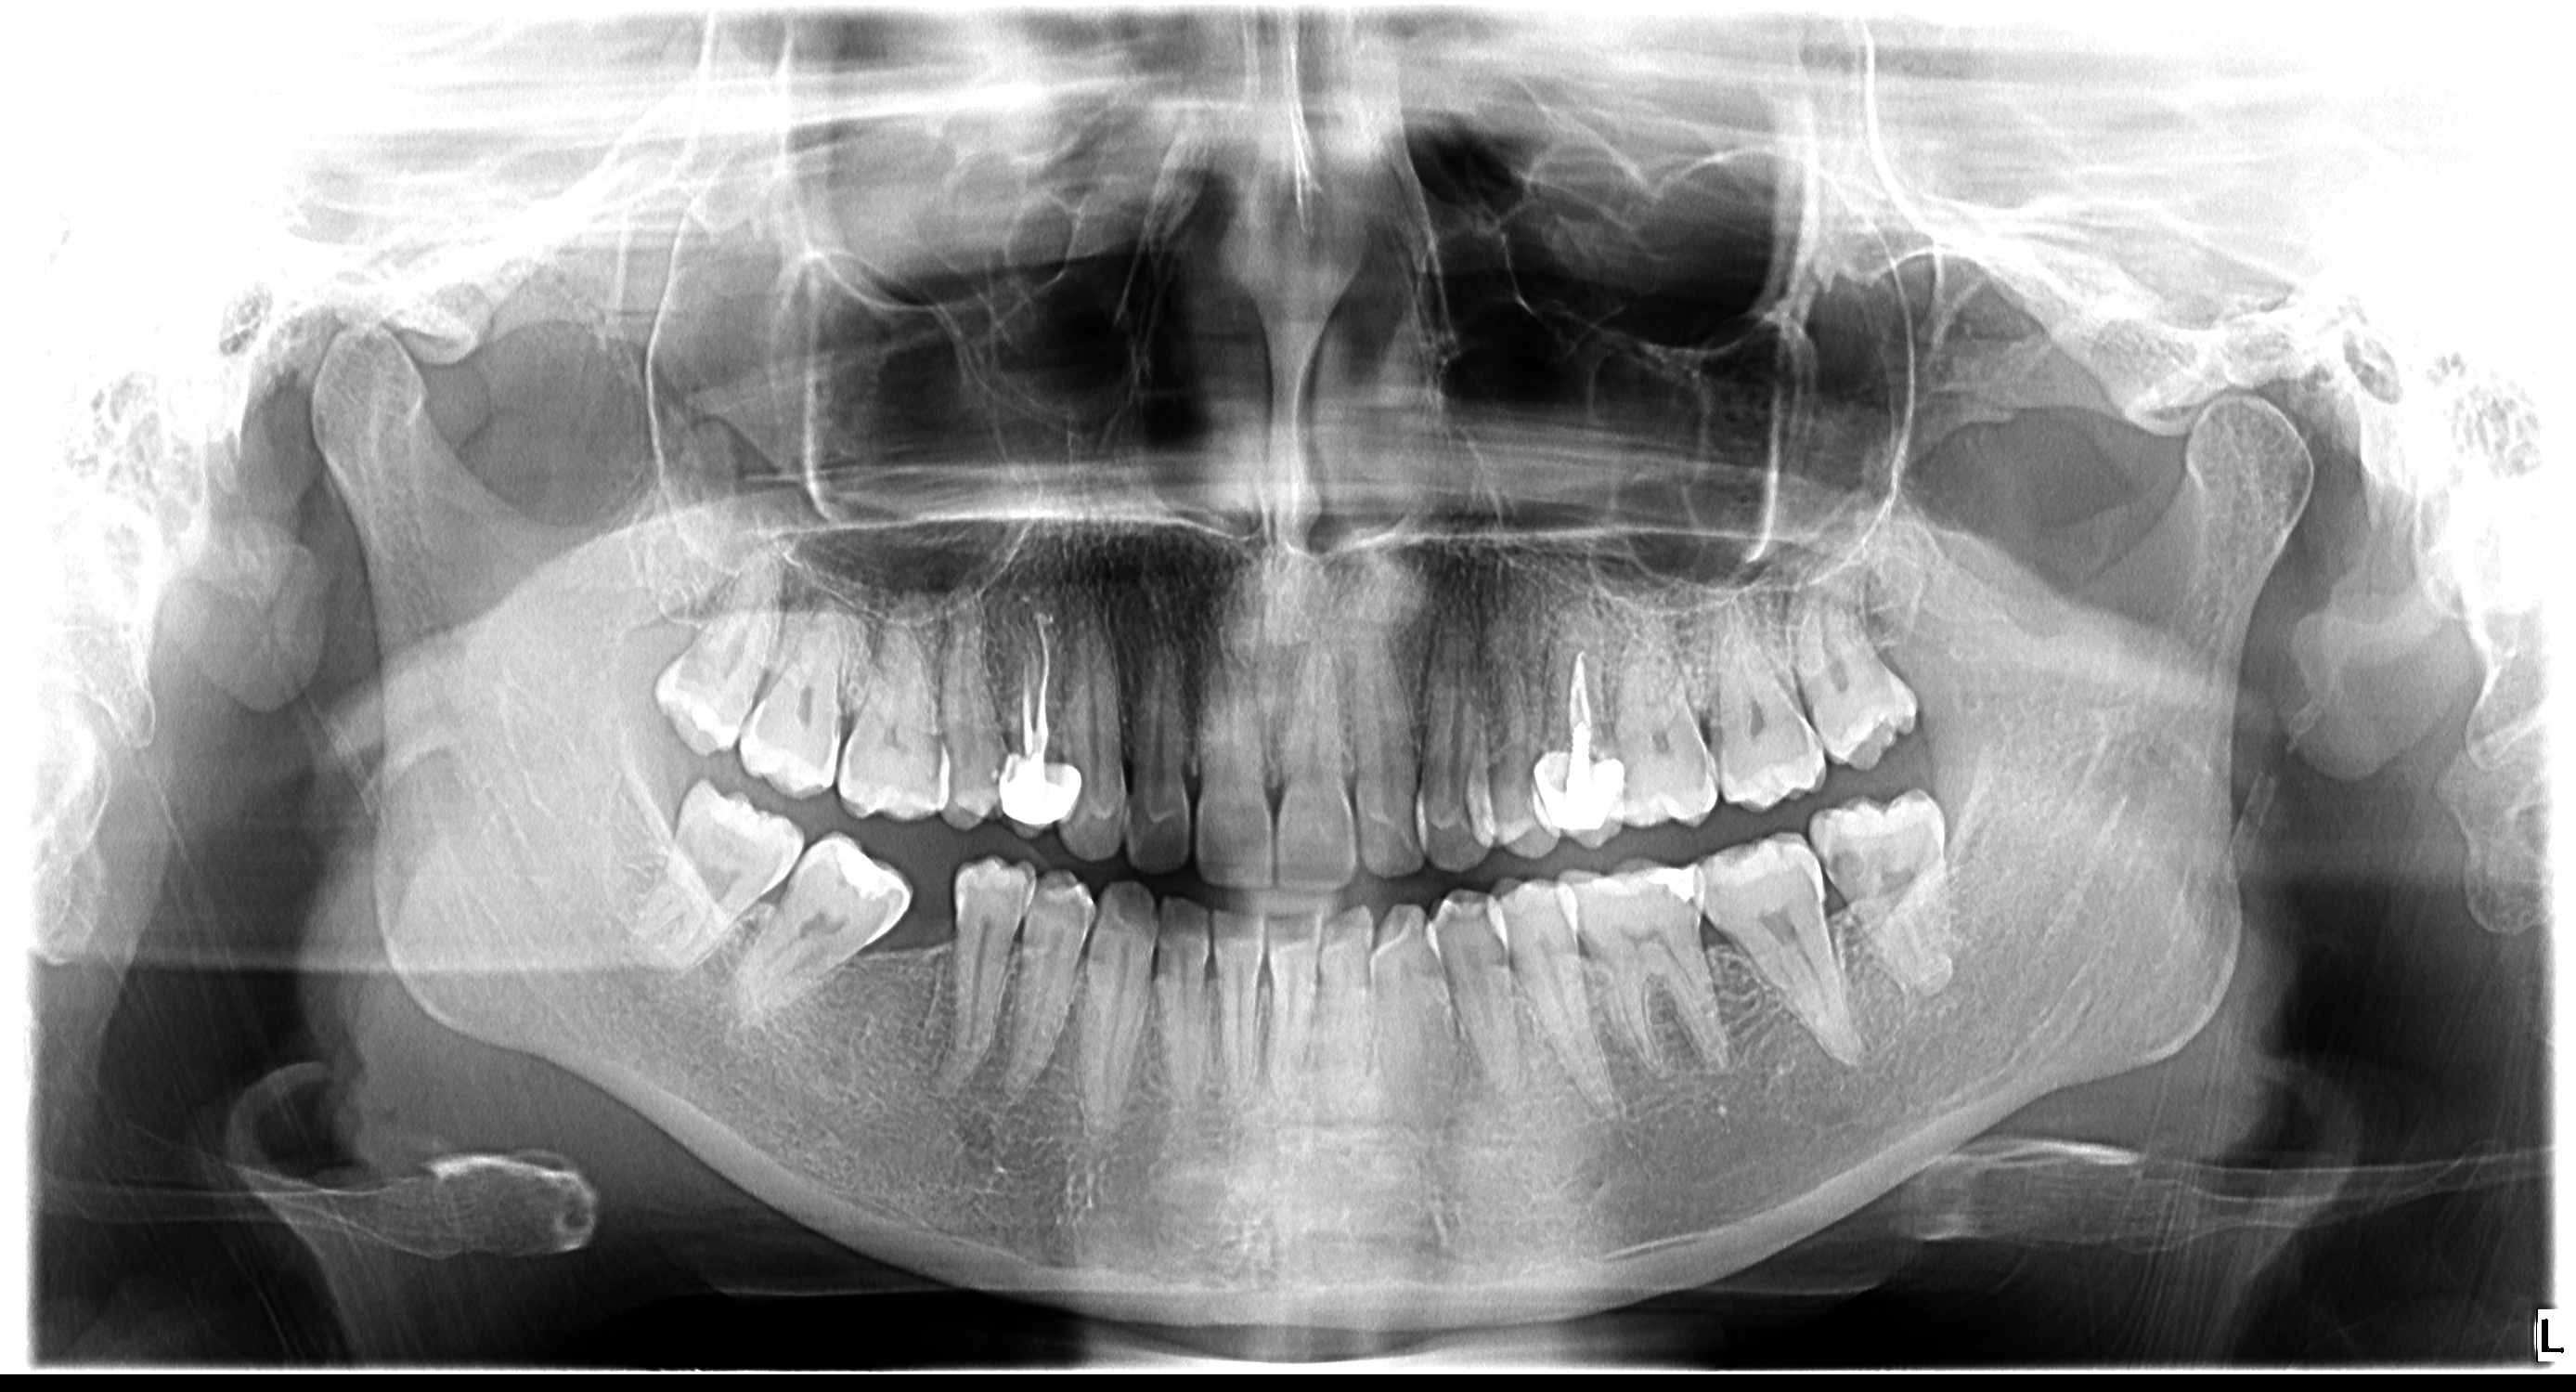CAR: (1804, 828, 1874, 897), (812, 705, 848, 746)
OBT: (820, 833, 913, 921), (1636, 849, 1713, 915)
PRR: (1524, 722, 1631, 845), (993, 746, 1093, 849)
